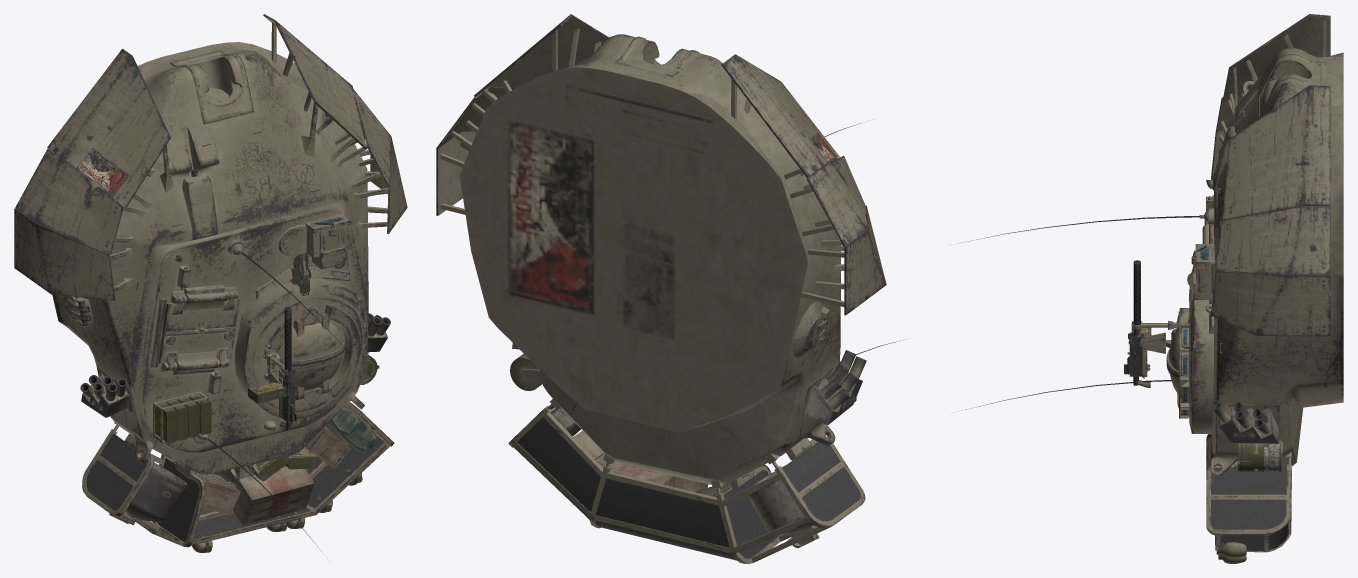
File: Turret_01.glb
3 views of the same model, side by side, from view 1: azimuth 30°, elevation 25°; view 2: azimuth 150°, elevation 25°; view 3: azimuth 270°, elevation 25° (orthographic). The views are drawn at different scales.
Visible parts, largest first — view 1: set_0_group_0; view 2: set_0_group_0; view 3: set_0_group_0.
Part boxes in pixels (x1,y1,x2,y2): set_0_group_0: (14,14,407,558); set_0_group_0: (436,14,904,563); set_0_group_0: (958,14,1343,563).
Bounding box in the file's own units: 3.14 × 3.98 × 2.99.
Materials: 1 (1 with a texture image).
